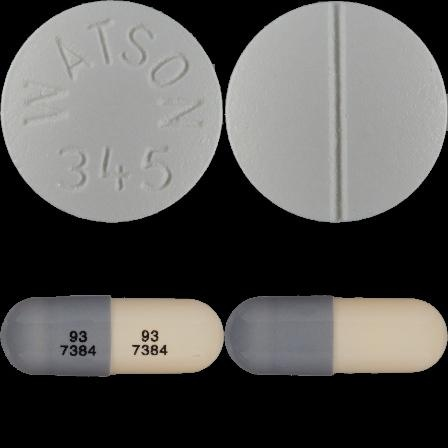0615-7619: (0, 0, 224, 224)
